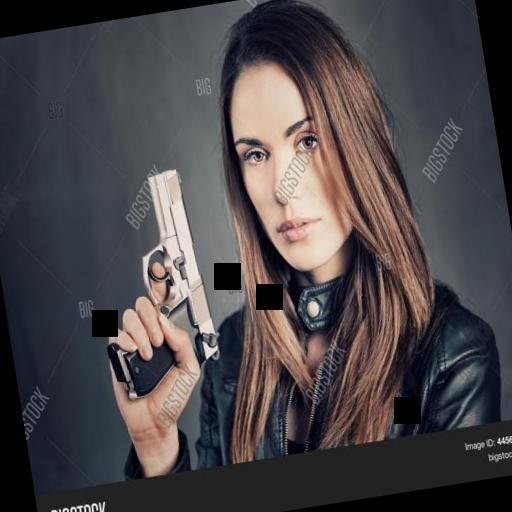Handgun: (82, 162, 227, 406)
